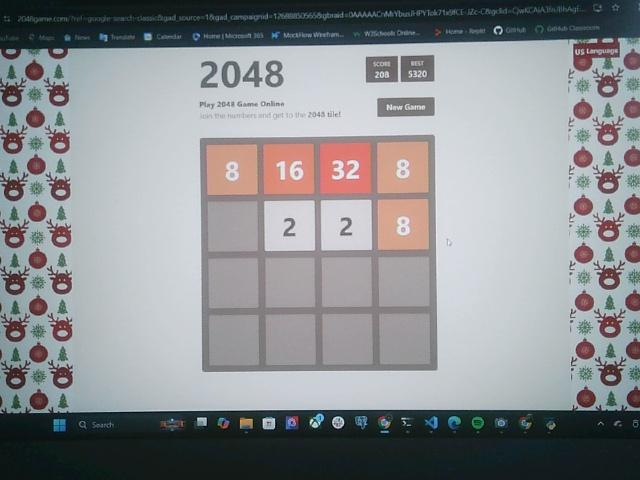board: (201, 137, 435, 371)
tile: (376, 141, 428, 194), (319, 142, 371, 194), (264, 200, 316, 251), (322, 199, 373, 251), (207, 145, 257, 196), (378, 199, 428, 250), (265, 143, 314, 195)
